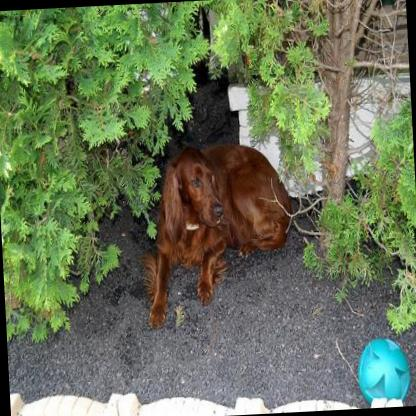Irish_setter: (136, 136, 298, 330)
